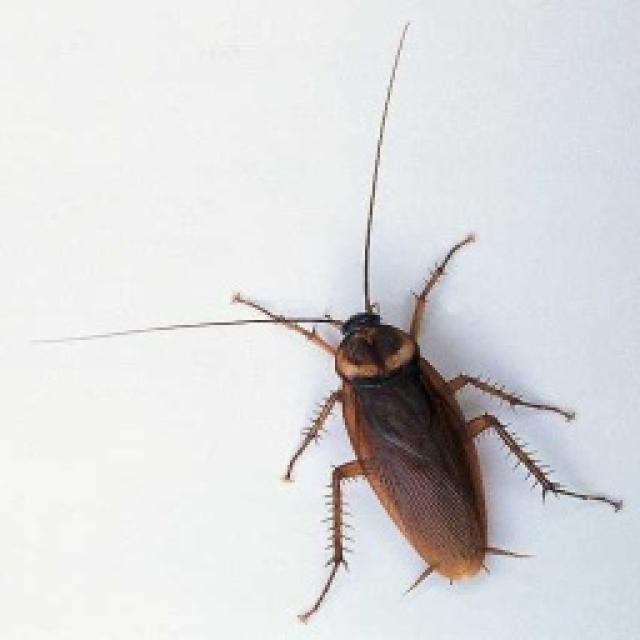cockroach: (264, 242, 512, 596)
